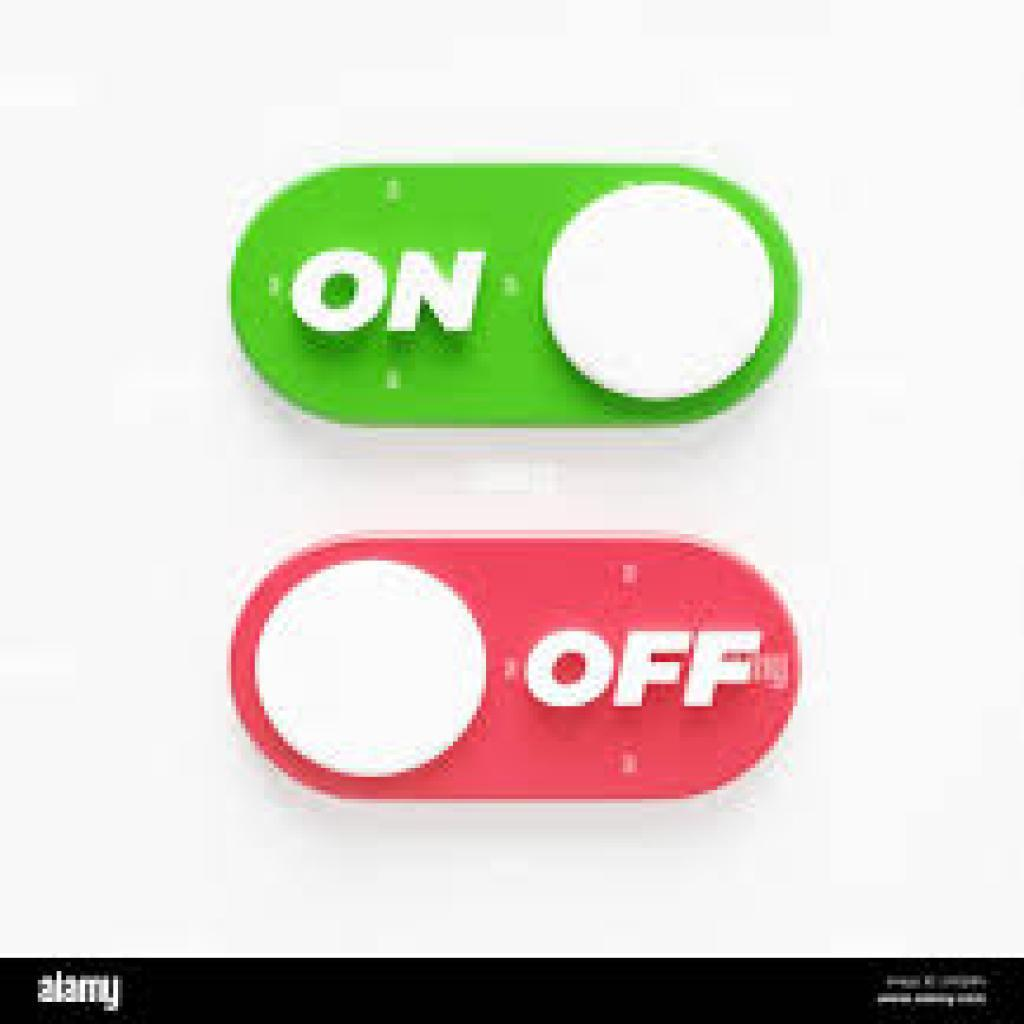switch: (233, 163, 806, 435), (229, 532, 804, 802)
